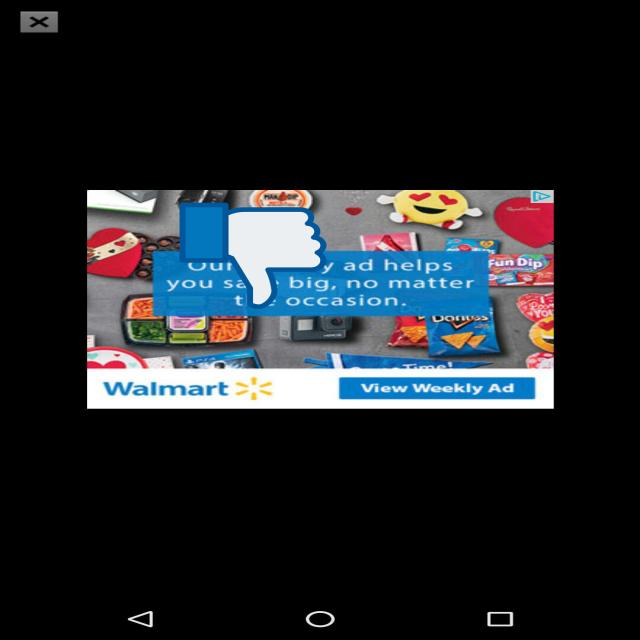obstruction: (180, 200, 326, 312)
